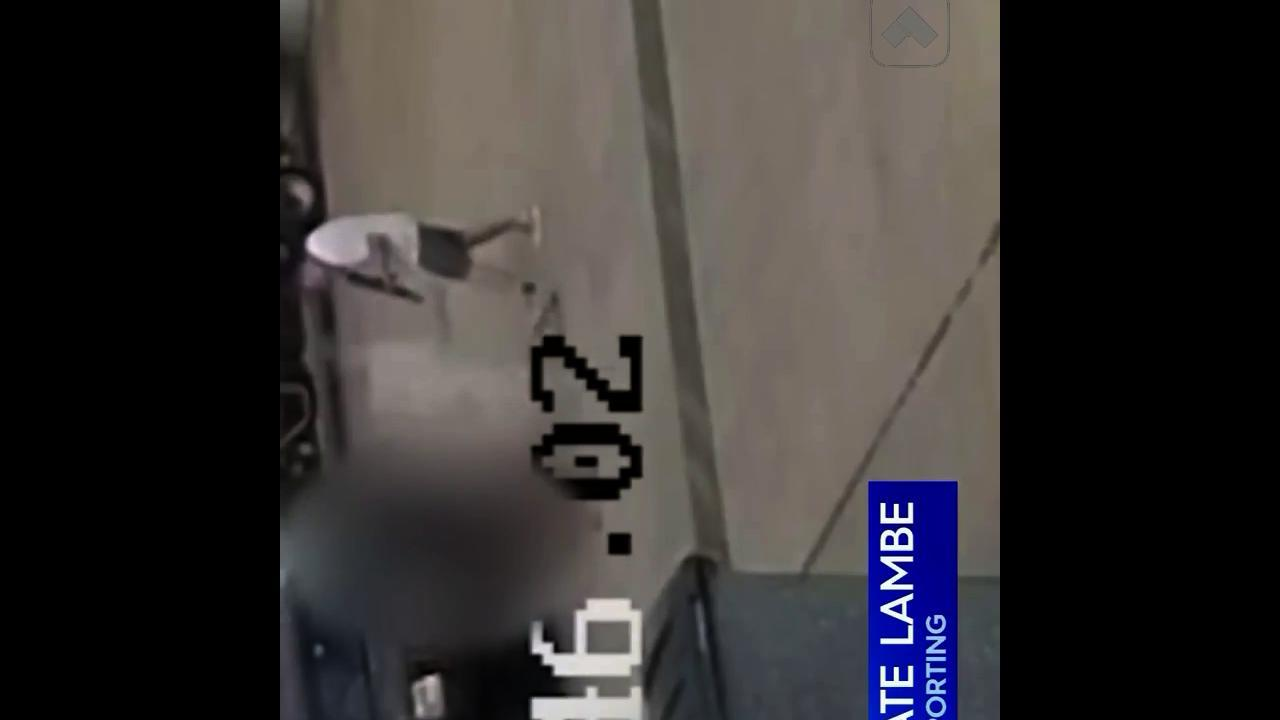gun: (350, 268, 425, 306)
